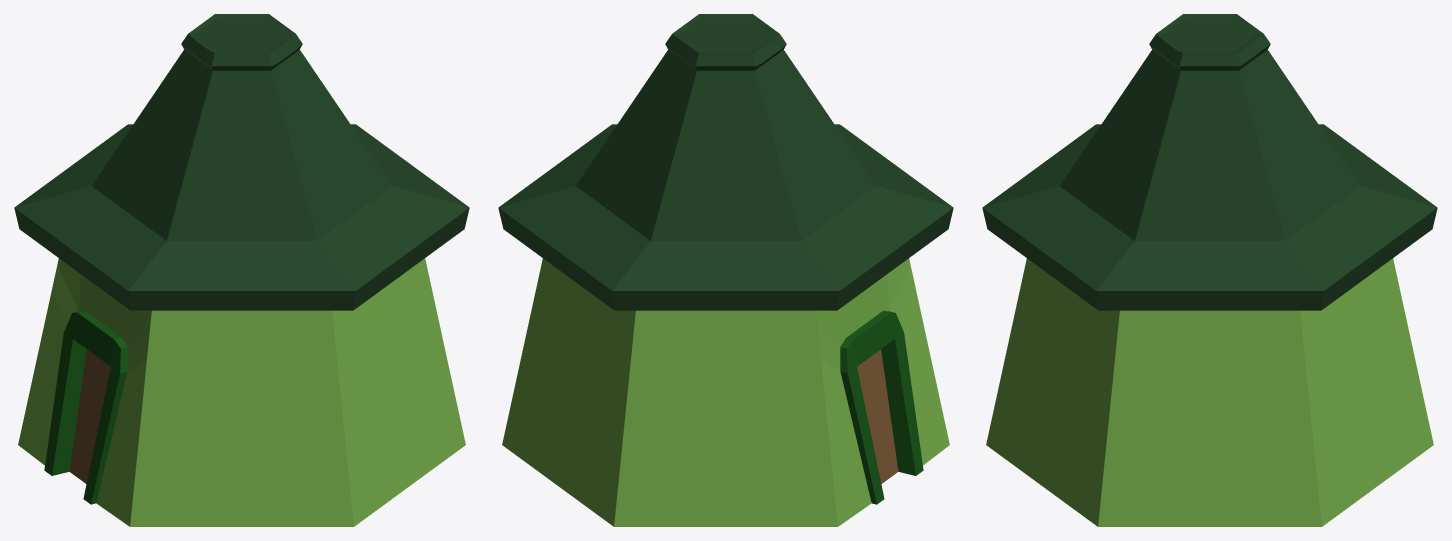
File: House.fbx
The picture shows the model from 3 angles, left to right: view 1: azimuth 30°, elevation 25°; view 2: azimuth 150°, elevation 25°; view 3: azimuth 270°, elevation 25°; orthographic projection.
Visible parts, largest first — view 1: Цилиндр; view 2: Цилиндр; view 3: Цилиндр.
Part boxes in pixels (x1,y1,x2,y2): Цилиндр: (14,14,469,526); Цилиндр: (498,14,953,526); Цилиндр: (982,14,1437,526).
Size of the model in its own units: 251 by 286 by 287.
